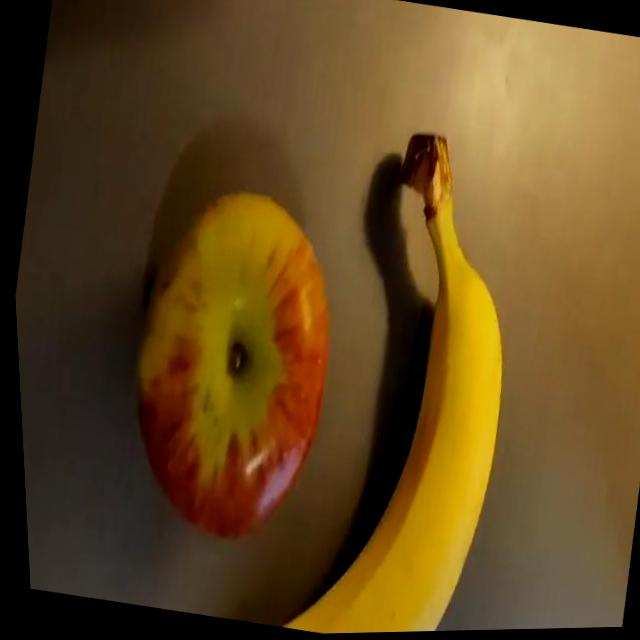Banana: (262, 125, 554, 636)
Orange: (88, 167, 366, 565)
